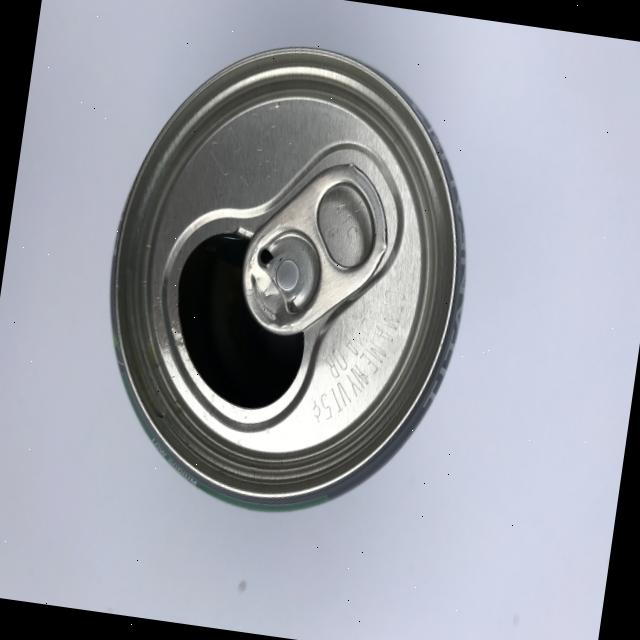metal: (80, 22, 496, 532)
